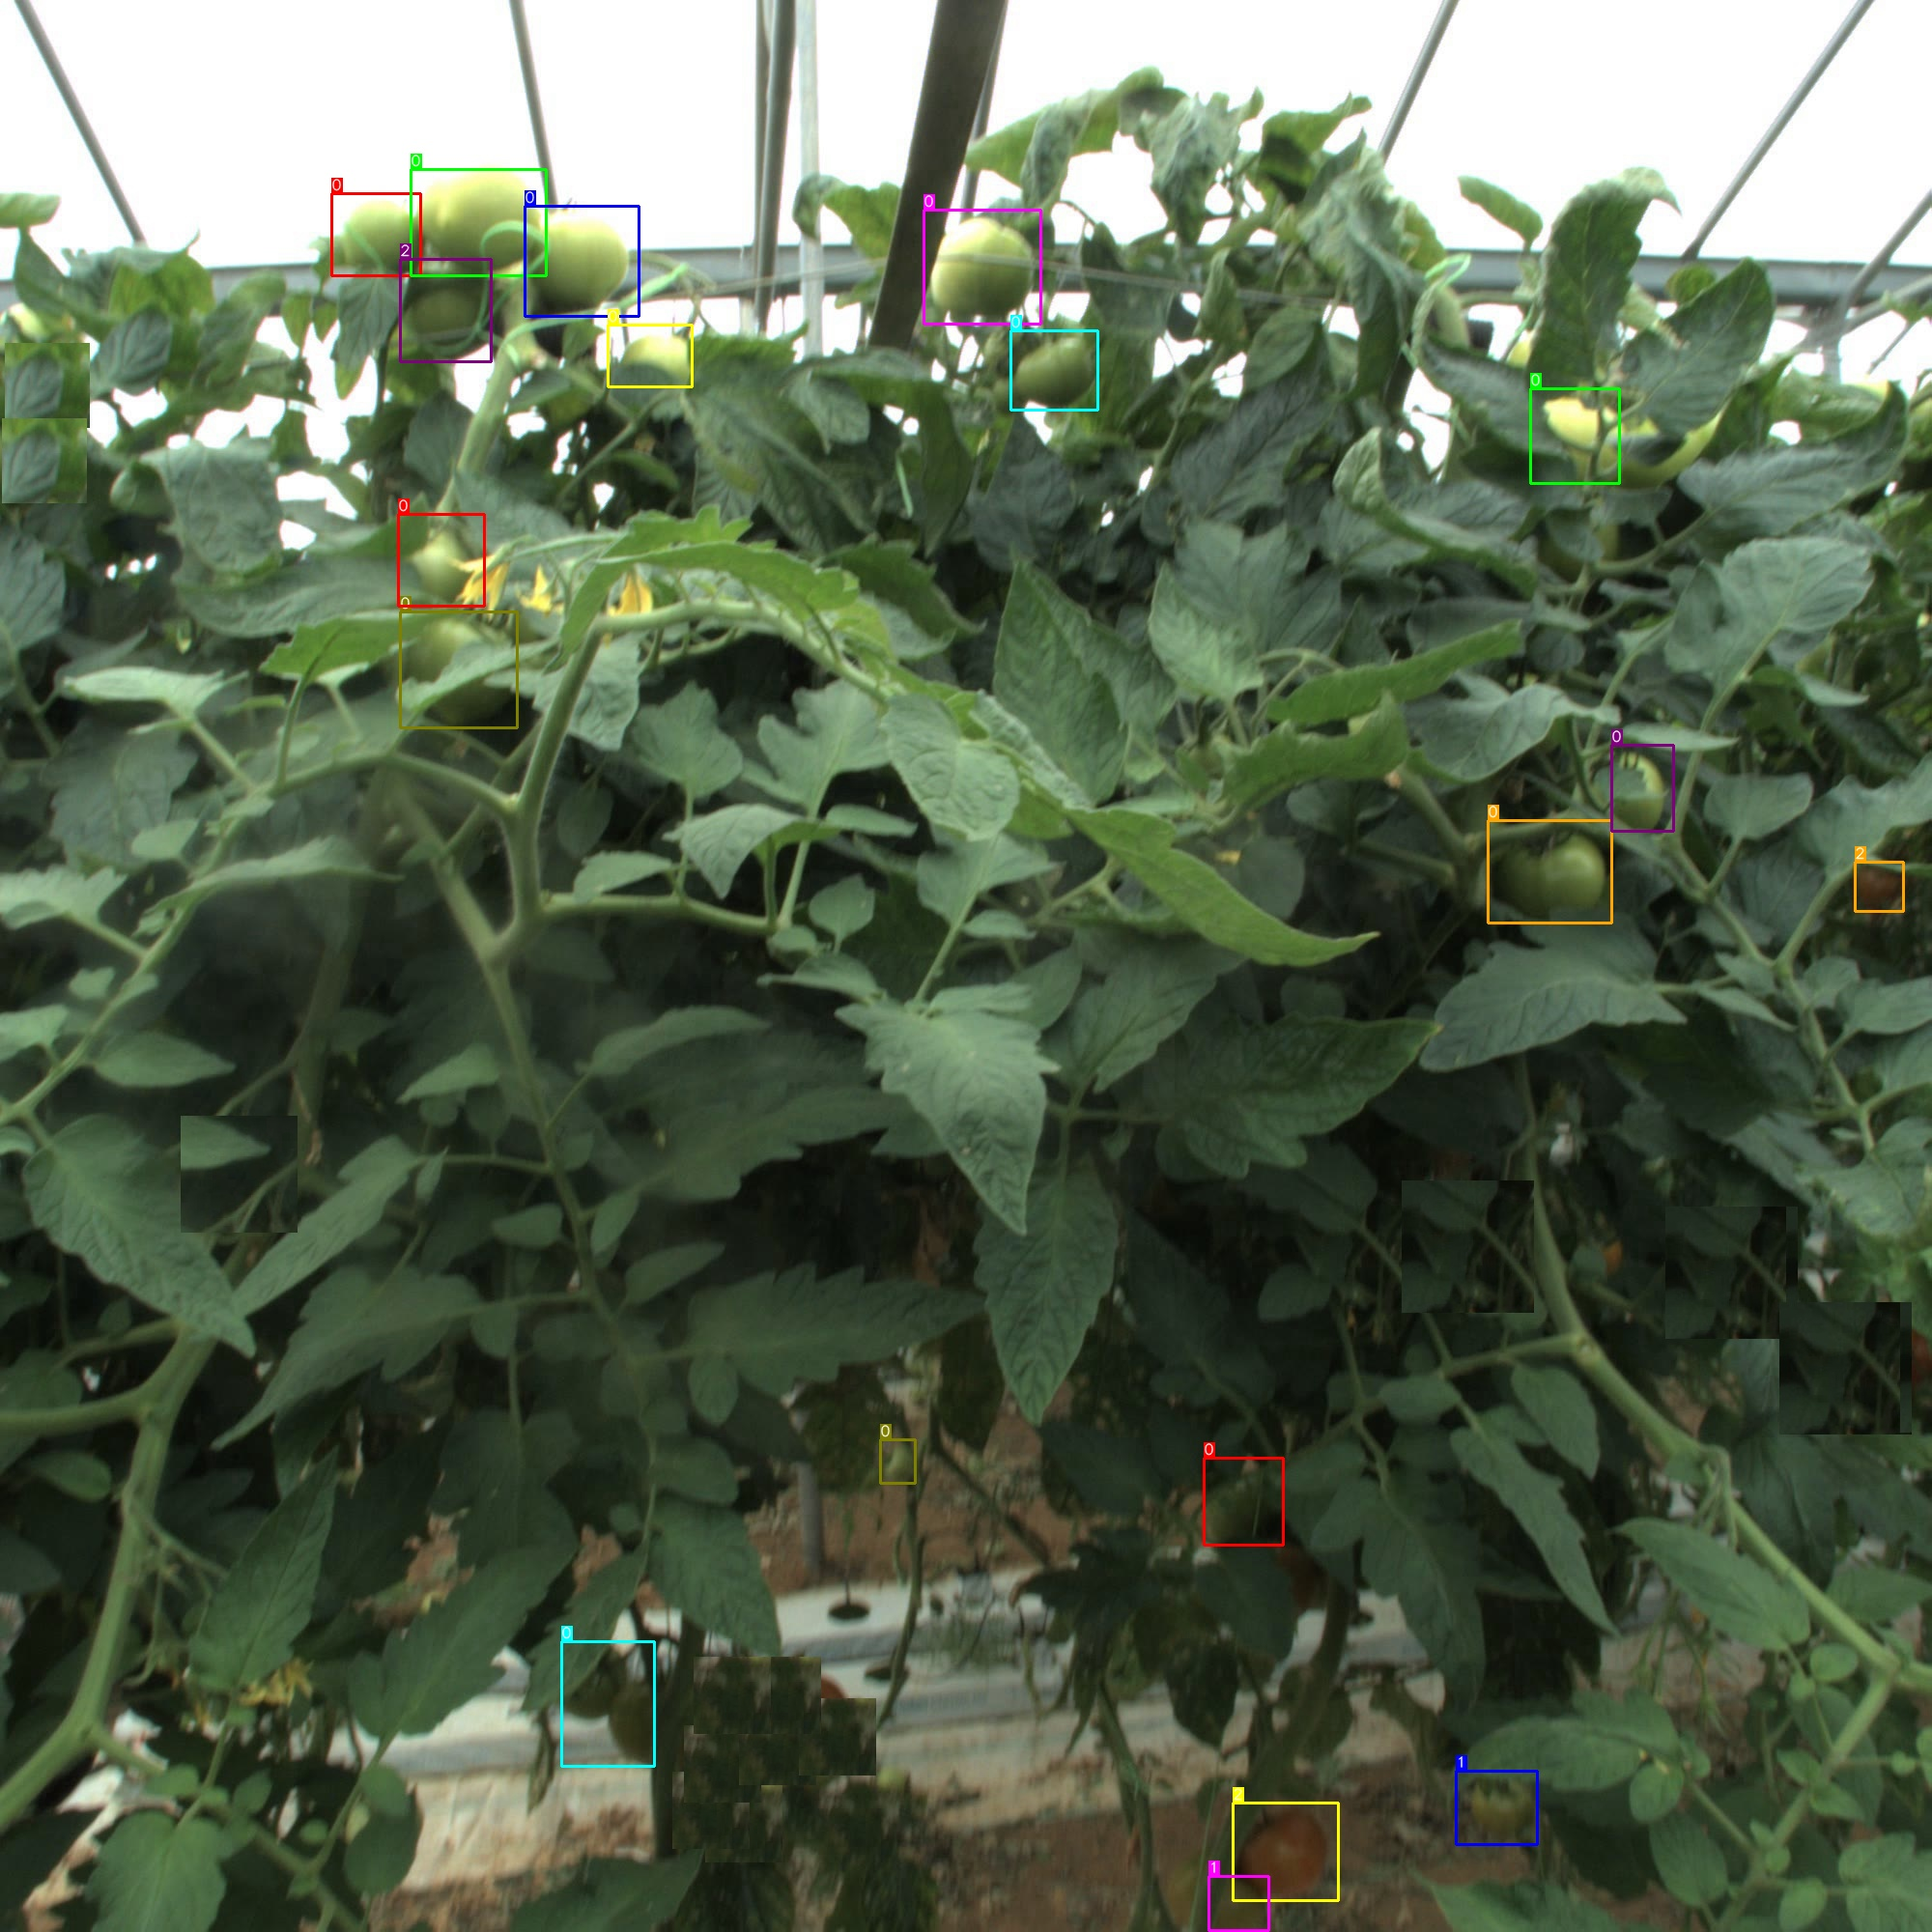MatureStage: (1233, 1803, 1338, 1900), (400, 258, 492, 361), (1854, 862, 1904, 911)
TurningStage: (1456, 1771, 1537, 1845), (1208, 1875, 1269, 1930)
WhiteStage: (410, 170, 545, 276), (924, 209, 1042, 324), (400, 612, 517, 727), (524, 205, 639, 317), (1488, 821, 1612, 922), (561, 1642, 655, 1766), (1530, 387, 1619, 483), (398, 513, 485, 605), (331, 193, 421, 276), (1010, 331, 1099, 410), (1203, 1458, 1283, 1546), (1612, 745, 1674, 832), (607, 324, 692, 386), (879, 1440, 915, 1484)
